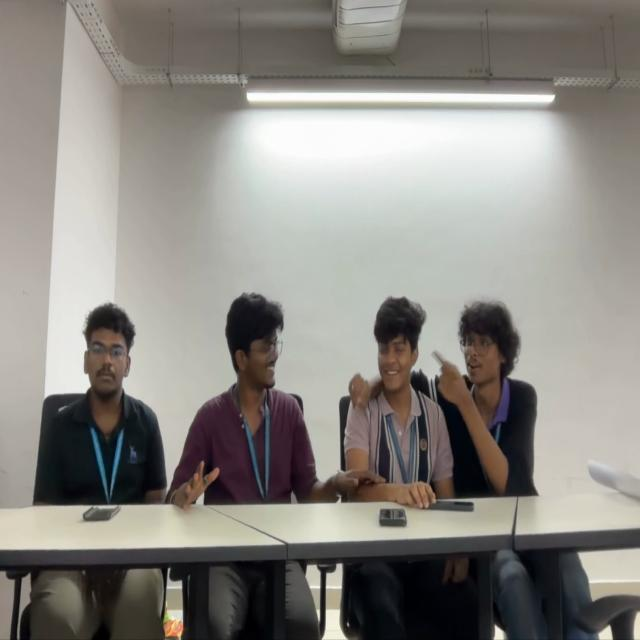Isolated: (46, 299, 166, 498)
socializing: (171, 296, 537, 500)
